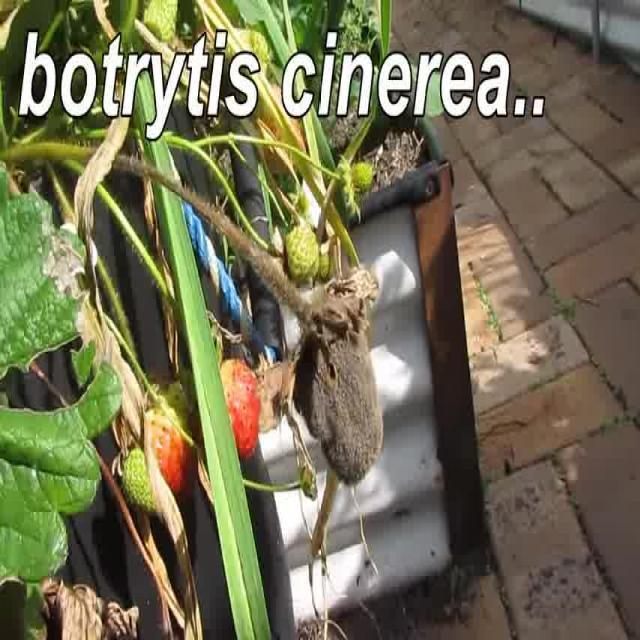Fruta sana: (138, 375, 192, 492), (212, 353, 262, 462), (286, 218, 322, 290)
Moho gris: (300, 308, 387, 488)
